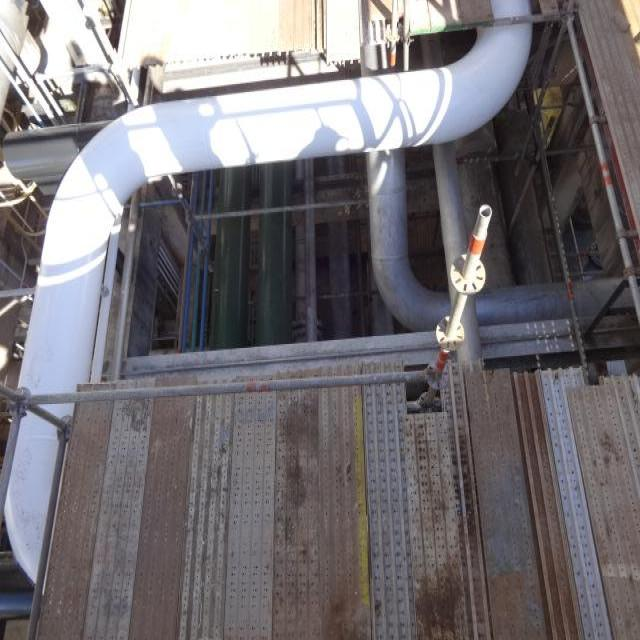gas: (4, 0, 532, 597), (367, 157, 636, 330)
